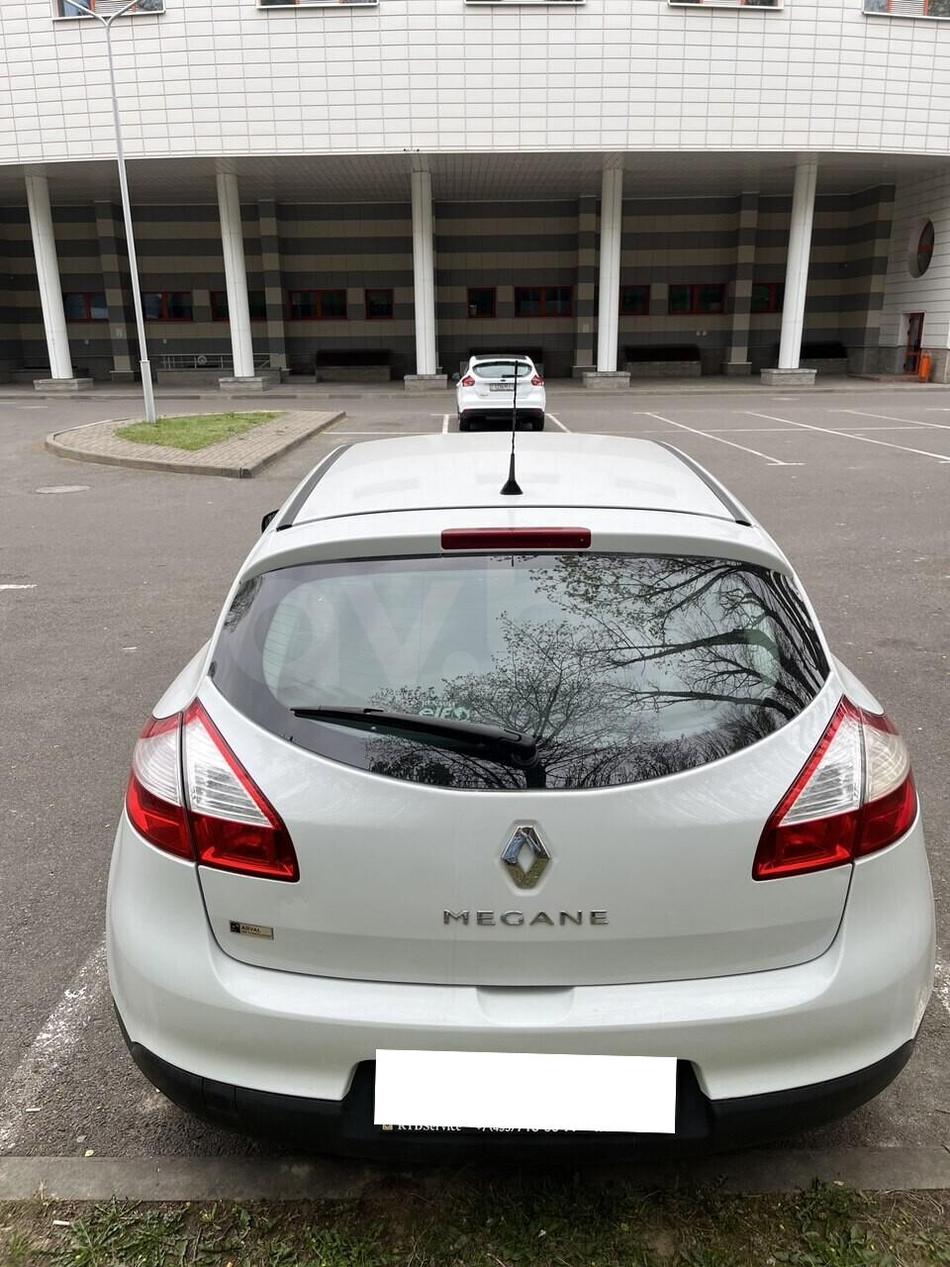Megane_2012-2014: (99, 417, 950, 1156)
